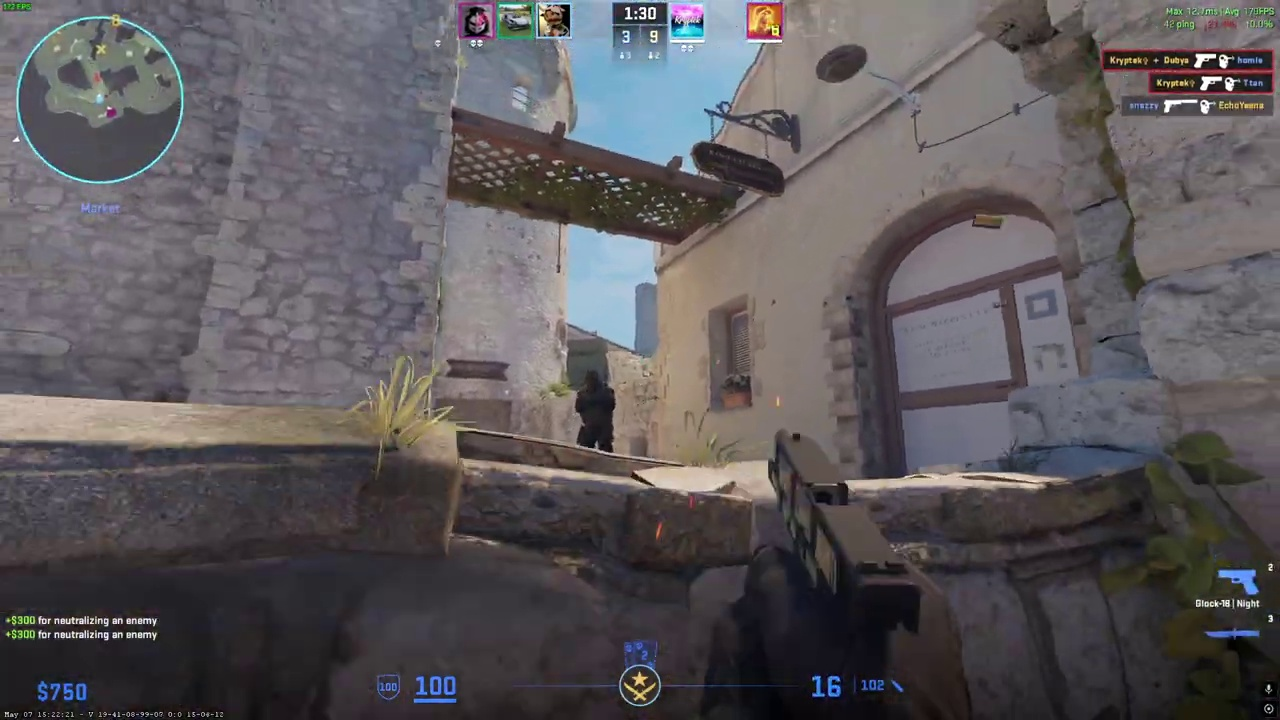CT: (574, 369, 616, 453)
